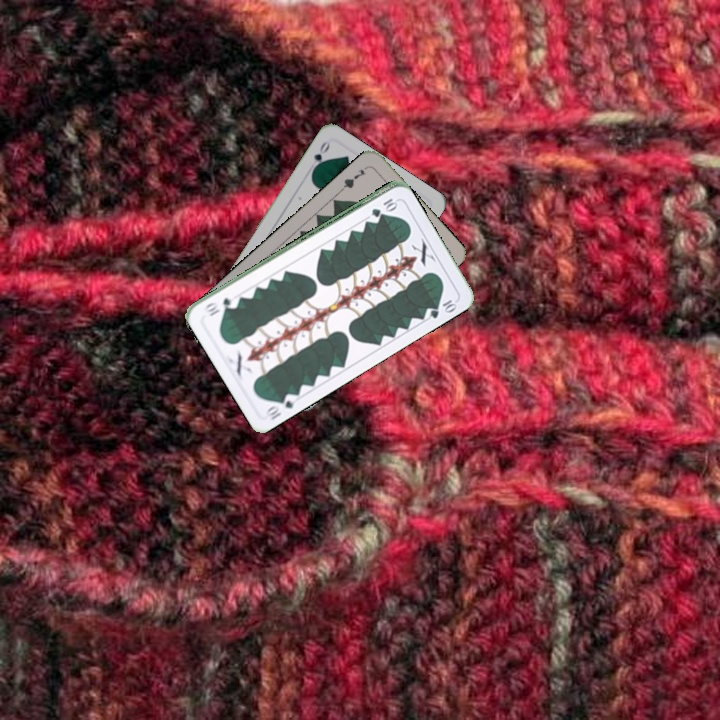G10: (263, 389, 300, 423), (367, 194, 399, 218)
G7: (337, 162, 371, 193)
GO: (308, 136, 332, 175)
